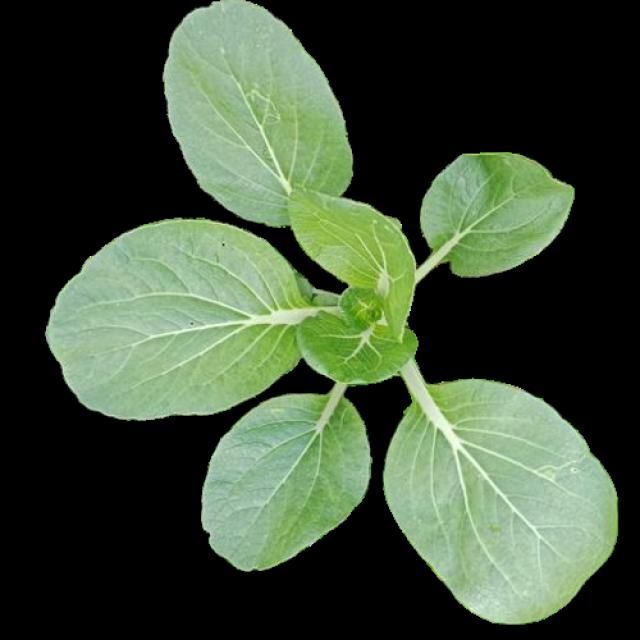not-mature: (51, 1, 618, 621)
unhealthy: (380, 380, 617, 622), (53, 223, 304, 416), (164, 6, 352, 219)
